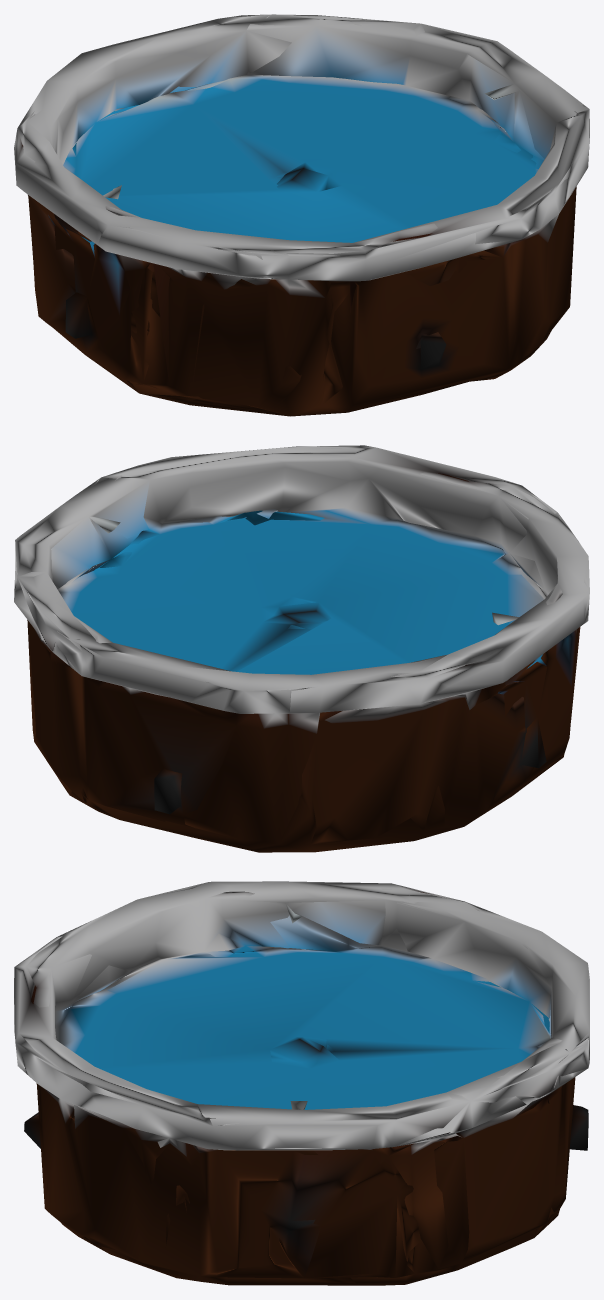
Rendered from gen3d-hot-tub-lod0.glb.
3 views of the same model, one above another, from view 1: azimuth 30°, elevation 25°; view 2: azimuth 150°, elevation 25°; view 3: azimuth 270°, elevation 25° (orthographic). The views are drawn at different scales.
Parts seen in each view (by area): view 1: part_0; view 2: part_0; view 3: part_0.
Part boxes in pixels (x1,y1,x2,y2): part_0: (14, 14, 589, 416); part_0: (14, 445, 589, 852); part_0: (14, 881, 589, 1285).
Size of the model in its own units: 2.91 by 0.9991 by 2.91.
